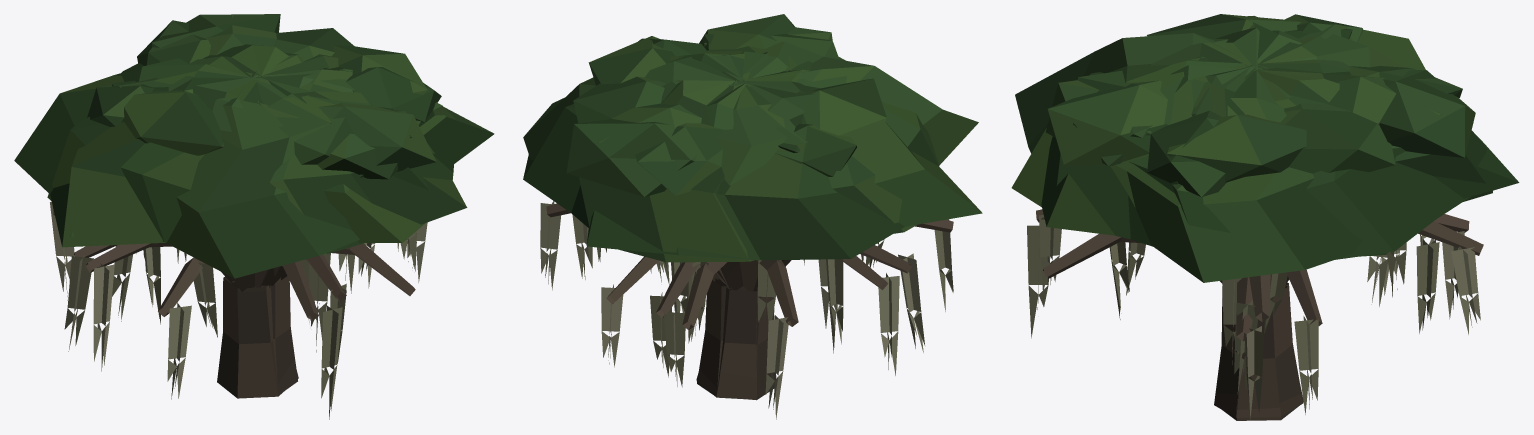
The model's file is liveoak.glb.
The picture shows the model from 3 angles, left to right: view 1: azimuth 30°, elevation 25°; view 2: azimuth 150°, elevation 25°; view 3: azimuth 270°, elevation 25°; orthographic projection. The views are drawn at different scales.
Parts seen in each view (by area): view 1: liveoak_v0, liveoak_v1, liveoak_v2; view 2: liveoak_v0, liveoak_v2, liveoak_v1; view 3: liveoak_v1, liveoak_v2, liveoak_v0.
Boxes of the visible parts, x1,y1,x2,y2 form: liveoak_v0: (14,20,453,399); liveoak_v1: (70,14,494,389); liveoak_v2: (47,14,455,419); liveoak_v0: (586,33,982,419); liveoak_v2: (523,27,939,399); liveoak_v1: (523,14,972,393); liveoak_v1: (1036,14,1492,420); liveoak_v2: (1011,28,1475,419); liveoak_v0: (1015,14,1519,417).
Bounding box in the file's own units: 13.13 × 9.1 × 12.11.
